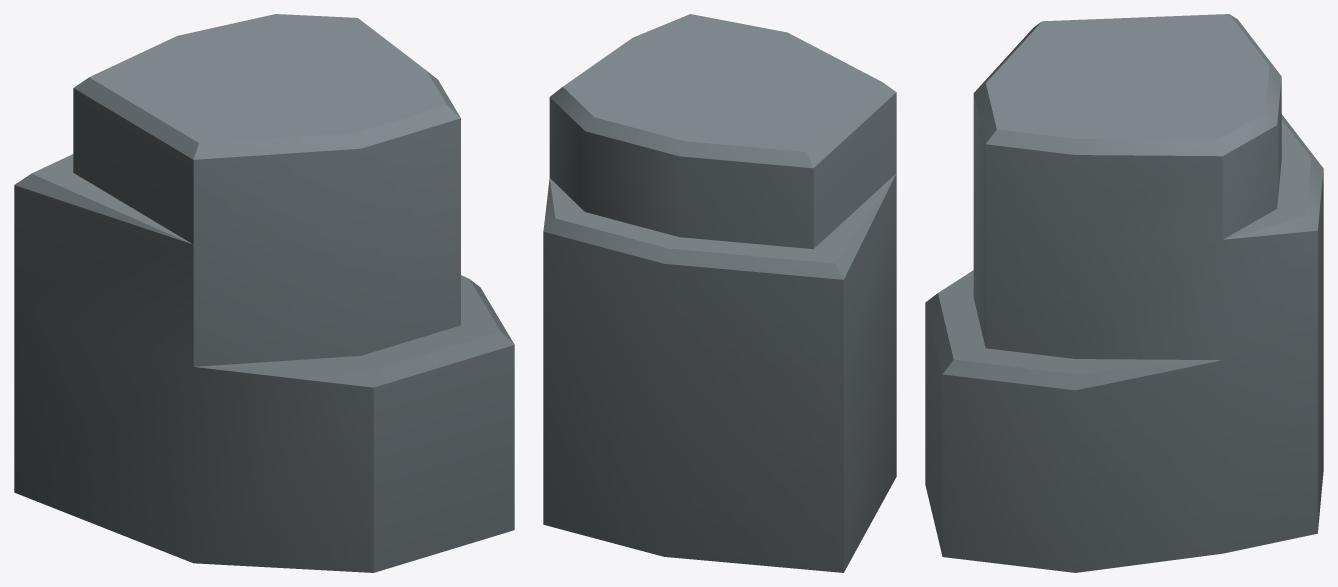
The model's file is Rock_1_G_Color1.glb.
3 renders of one model, left to right at view 1: azimuth 30°, elevation 25°; view 2: azimuth 150°, elevation 25°; view 3: azimuth 270°, elevation 25°, orthographic. The views are drawn at different scales.
Parts seen in each view (by area): view 1: Rock_1_G_Color1; view 2: Rock_1_G_Color1; view 3: Rock_1_G_Color1.
Part boxes in pixels (x1,y1,x2,y2): Rock_1_G_Color1: [14, 14, 514, 572]; Rock_1_G_Color1: [543, 14, 896, 572]; Rock_1_G_Color1: [925, 14, 1323, 572].
Bounding box in the file's own units: 1.75 × 1.87 × 1.65.
Materials: 1 (1 with a texture image).
